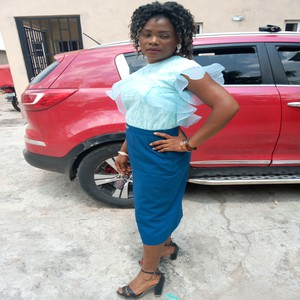Fulokoja_female_student: (125, 2, 189, 286)
